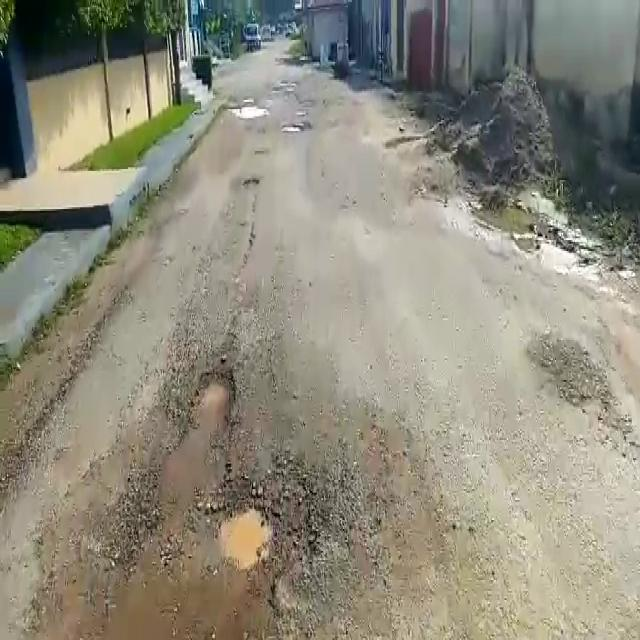Pothole: (211, 486, 289, 571), (188, 371, 238, 438), (224, 105, 269, 120)
